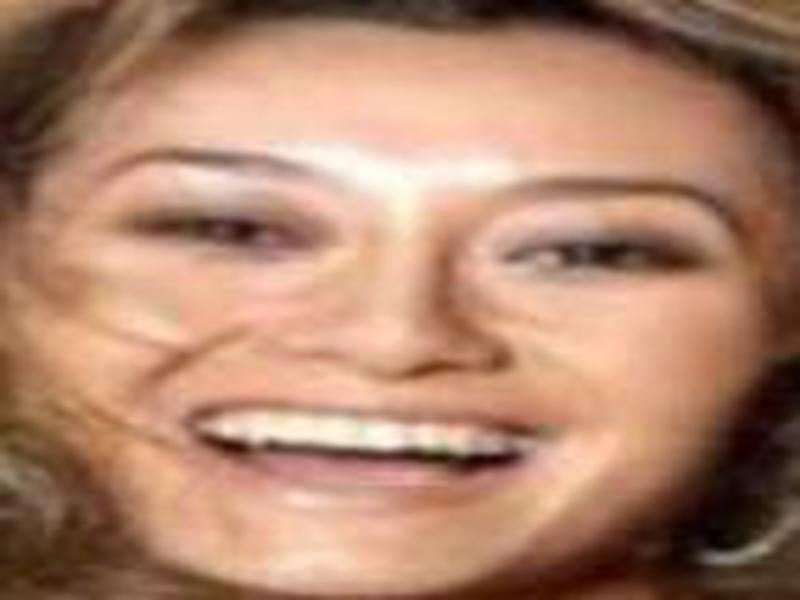without_mask: (31, 38, 780, 595)
